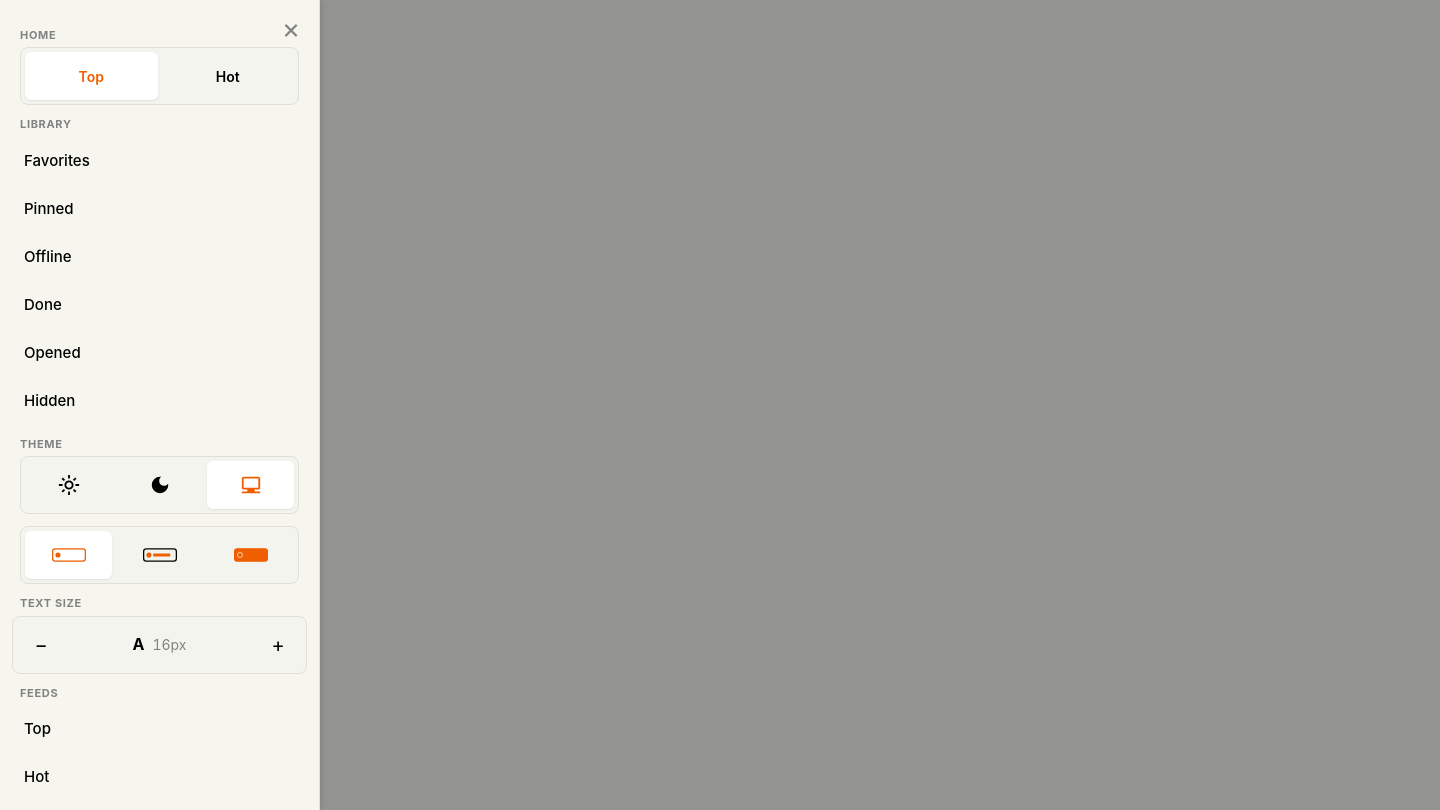
it: <AppDrawer> › switches the mode when a radio is clicked
Later steps or results of the test are not shown.
Click the radio button named "Dark" at (160, 485), box [116,461,203,509]
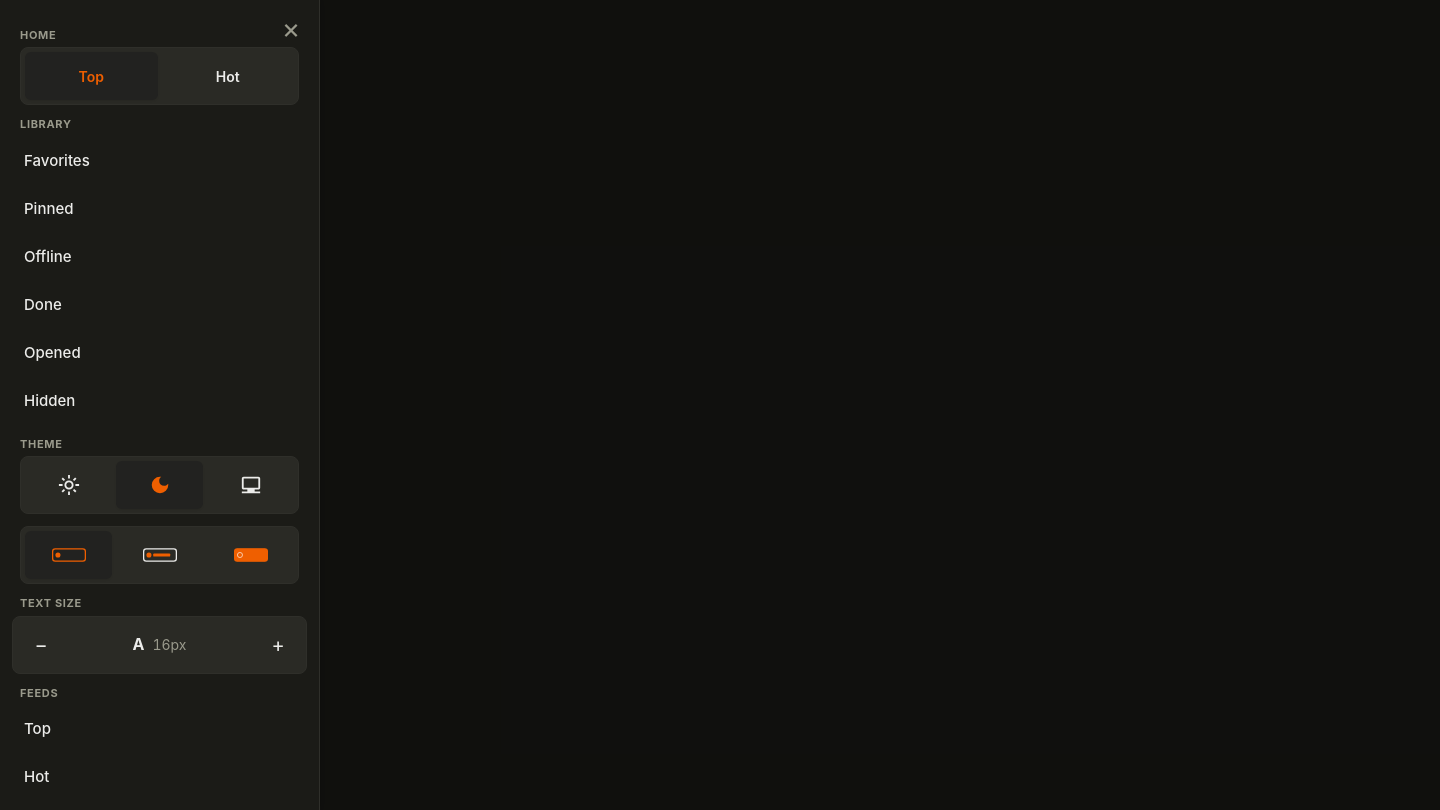
Expected: the radio button named "Dark" is checked, [116,461,203,509]
